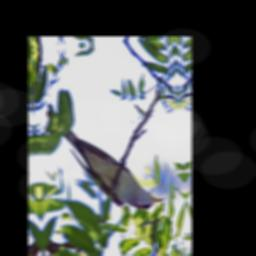Cuckoo: (46, 99, 165, 219)
